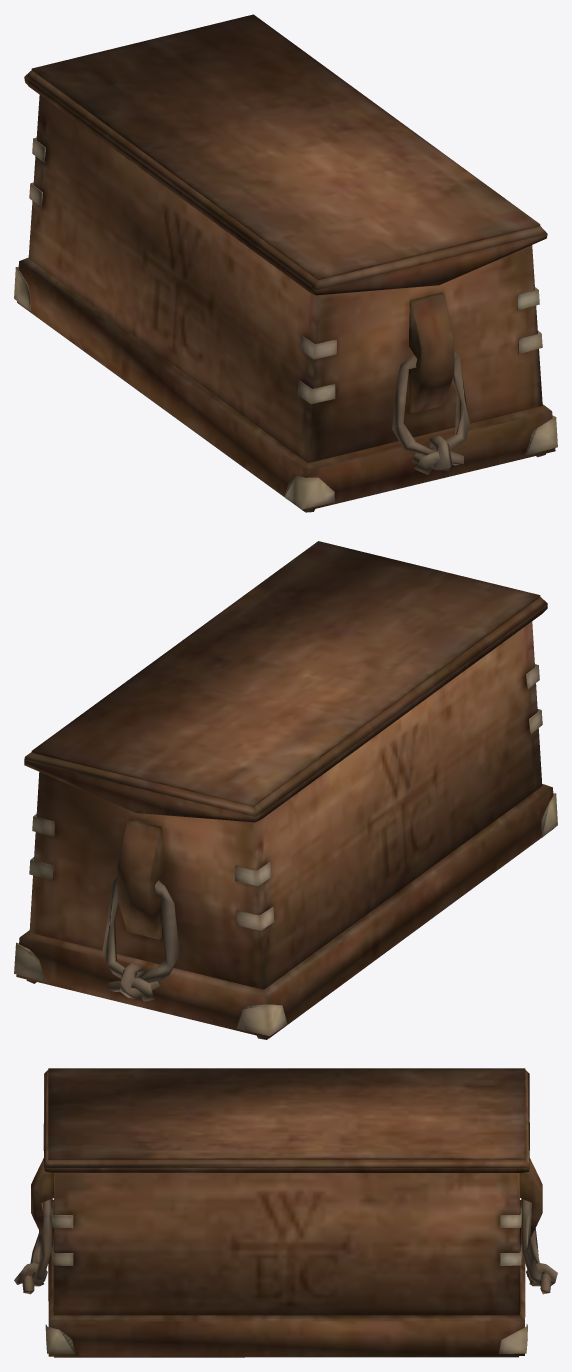
File: crate.glb
The picture shows the model from 3 angles, top to bottom: view 1: azimuth 30°, elevation 25°; view 2: azimuth 150°, elevation 25°; view 3: azimuth 270°, elevation 25°; orthographic projection. The views are drawn at different scales.
Visible parts, largest first — view 1: wooden_crate_02_crate; view 2: wooden_crate_02_crate; view 3: wooden_crate_02_crate.
Part boxes in pixels (x1=…): wooden_crate_02_crate: x1=14, y1=14, x2=557, y2=512; wooden_crate_02_crate: x1=14, y1=541, x2=557, y2=1039; wooden_crate_02_crate: x1=14, y1=1068, x2=557, y2=1357.
Bounding box in the file's own units: 0.529 × 0.4628 × 1.16.
Materials: 1 (1 with a texture image).
